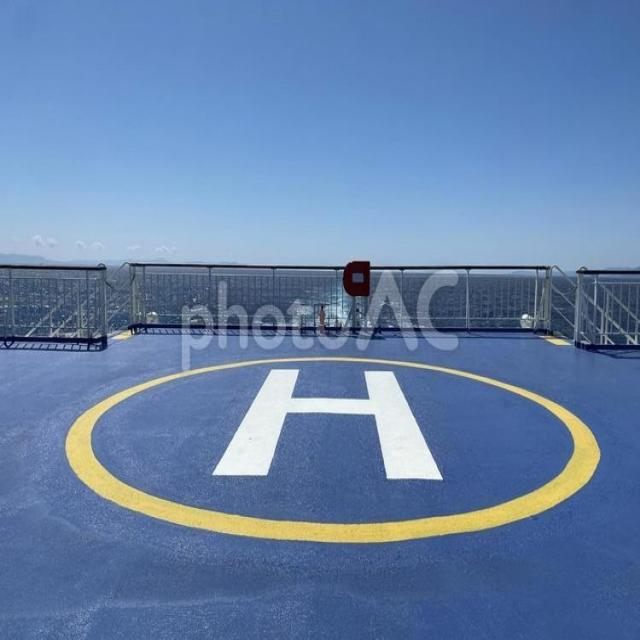helipad: (59, 352, 602, 548)
